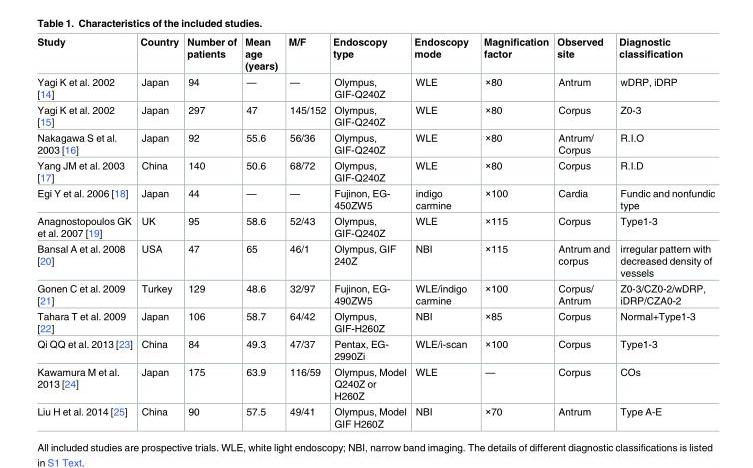table: (36, 36, 714, 428)
table column: (613, 36, 714, 428), (36, 36, 135, 428), (328, 36, 409, 428), (475, 36, 552, 428), (409, 36, 475, 428), (552, 36, 613, 428), (182, 36, 240, 428), (135, 36, 182, 428), (282, 36, 328, 428), (240, 36, 282, 428)
table column header: (36, 36, 714, 73)
table row: (36, 240, 714, 280), (36, 364, 714, 403), (36, 36, 714, 73), (36, 335, 714, 364), (36, 73, 714, 101), (36, 101, 714, 129), (36, 129, 714, 157), (36, 184, 714, 212), (36, 212, 714, 240), (36, 307, 714, 335), (36, 157, 714, 184), (36, 280, 714, 307), (36, 403, 714, 428)
